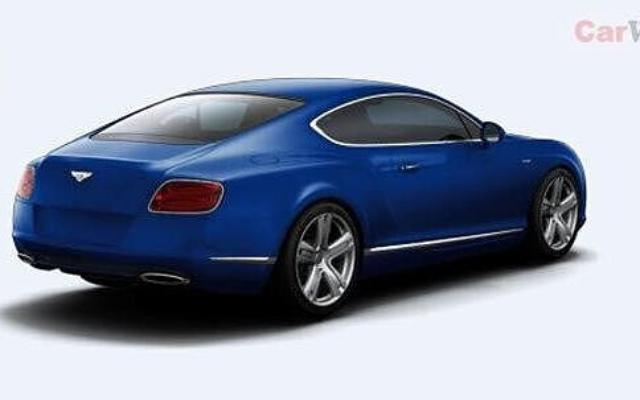bentley: (11, 78, 587, 316)
